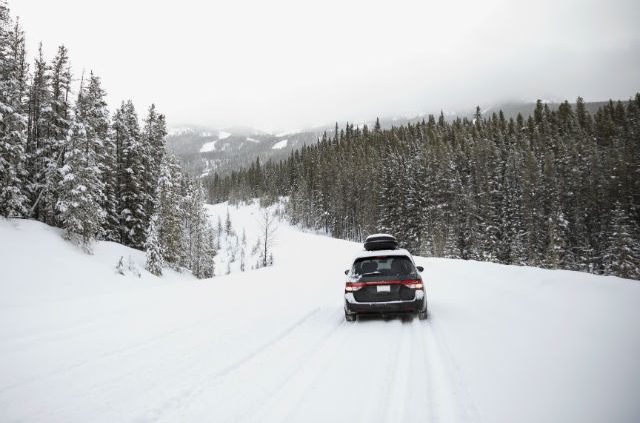car: (343, 248, 428, 325)
